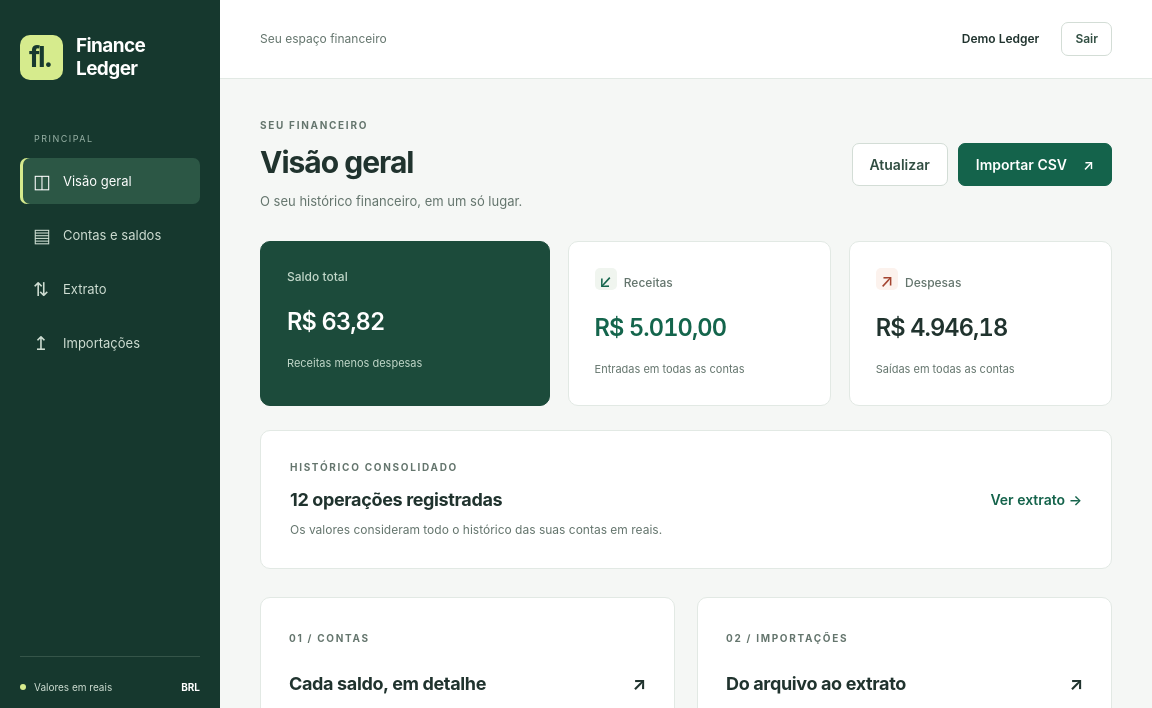
Test case: authenticated navigation › forgets the token even when server logout is unavailable, with an honest notice
This screenshot has width=1152, height=708.
Click the button "Sair": (1087, 39) [1061,22,1112,56]
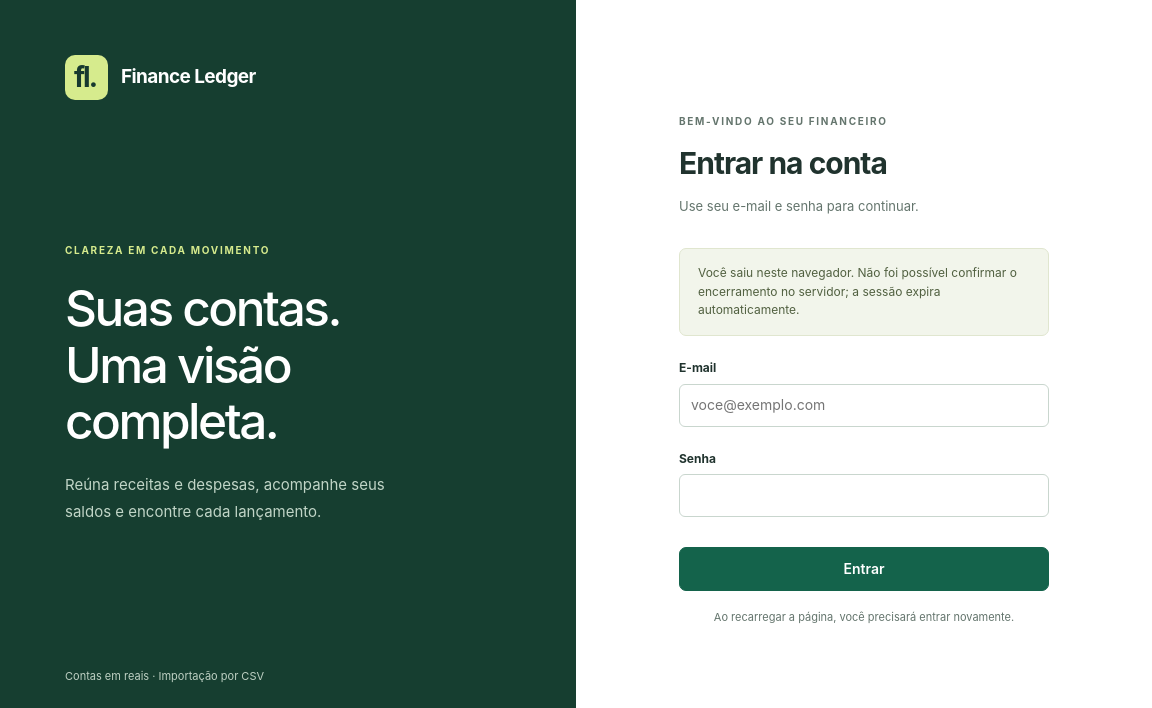
Expected: the text "Não foi possível confirmar o encerramento" is shown, [698,265,1017,317]
